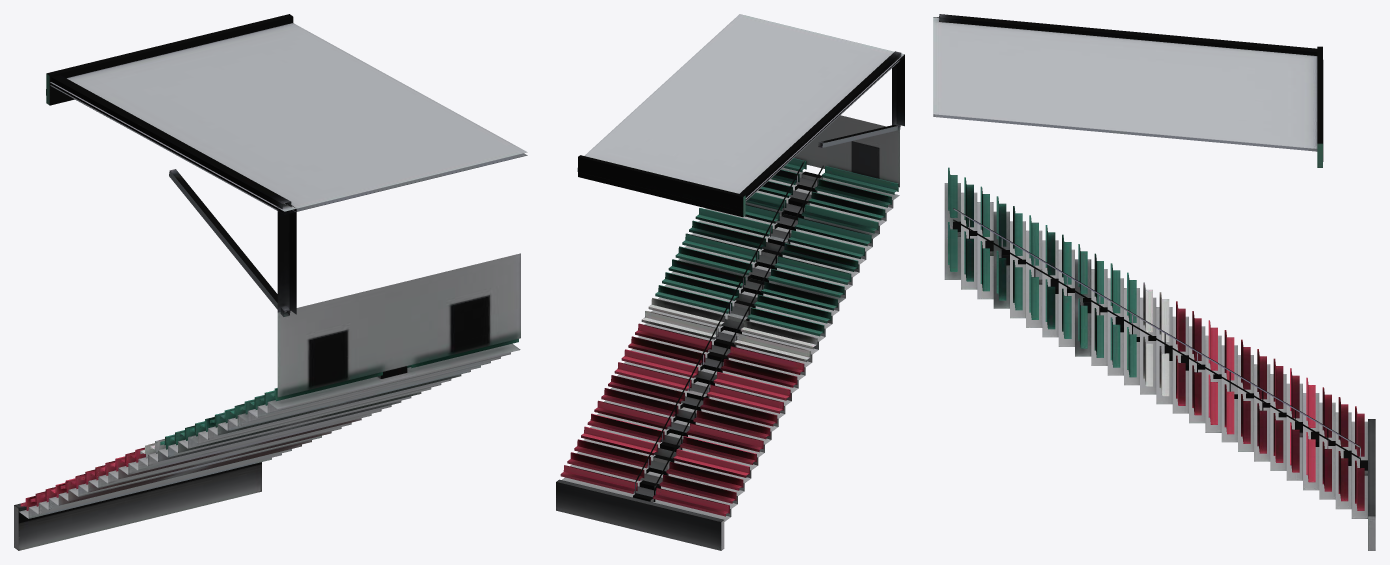
File: stand_section.glb
3 views of the same model, side by side, from view 1: azimuth 30°, elevation 25°; view 2: azimuth 150°, elevation 25°; view 3: azimuth 270°, elevation 25° (orthographic). The views are drawn at different scales.
Parts seen in each view (by area): view 1: stand_section; view 2: stand_section; view 3: stand_section.
Part boxes in pixels (left/top/right/bottom): stand_section: left=14, top=14, right=527, bottom=550; stand_section: left=556, top=14, right=904, bottom=550; stand_section: left=933, top=14, right=1375, bottom=550.
Size of the model in its own units: 12 by 25.37 by 23.1.
1 material, 1 textured.
